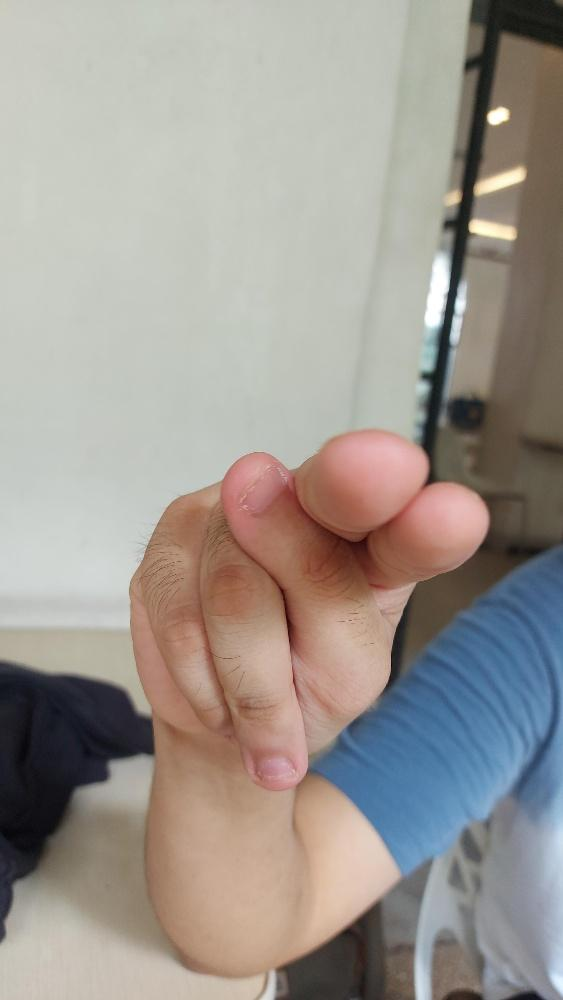n: (127, 426, 490, 791)
